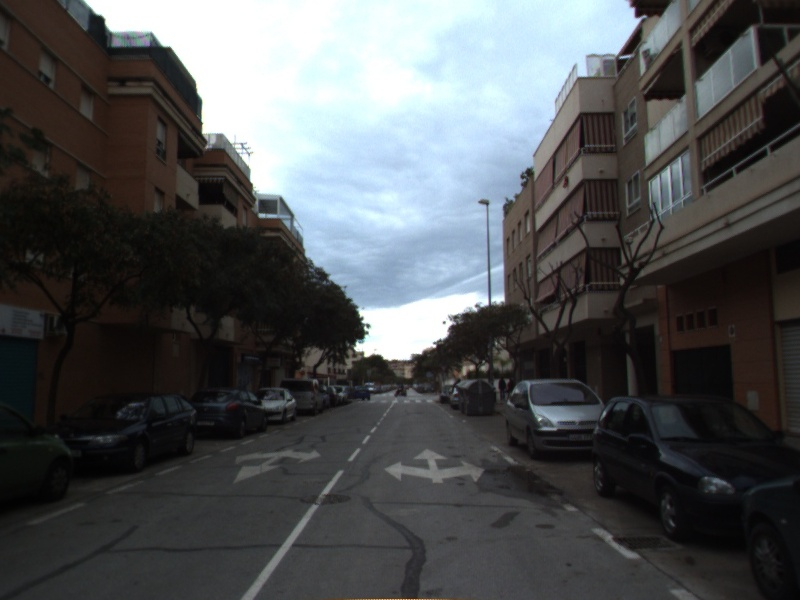STRAIGHT_LEFT_RIGHT: (382, 446, 487, 485)
